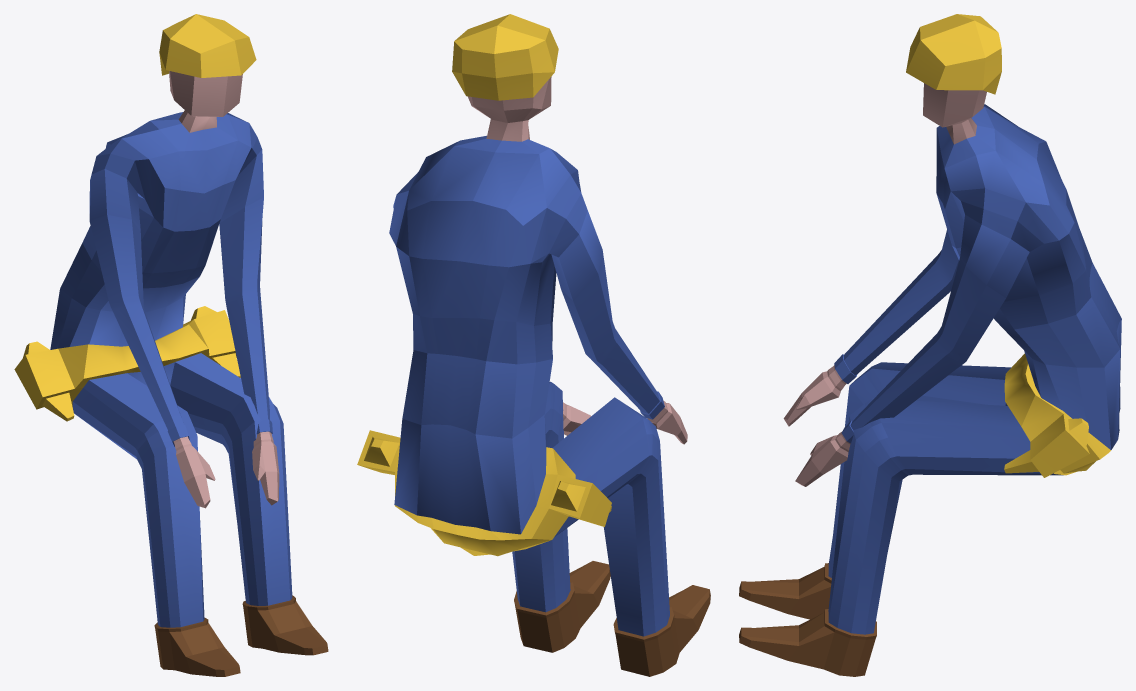
The model's file is Mechanic_sitting.fbx.
The picture shows the model from 3 angles, left to right: view 1: azimuth 30°, elevation 25°; view 2: azimuth 150°, elevation 25°; view 3: azimuth 270°, elevation 25°; orthographic projection. The views are drawn at different scales.
Parts seen in each view (by area): view 1: Carpenter_Character; view 2: Carpenter_Character; view 3: Carpenter_Character.
Boxes of the visible parts, box(x1,y1,x2,y2) form: Carpenter_Character: box(14, 14, 328, 676); Carpenter_Character: box(357, 14, 710, 676); Carpenter_Character: box(739, 14, 1121, 676).
Bounding box in the file's own units: 16.2 × 45.26 × 24.51.
